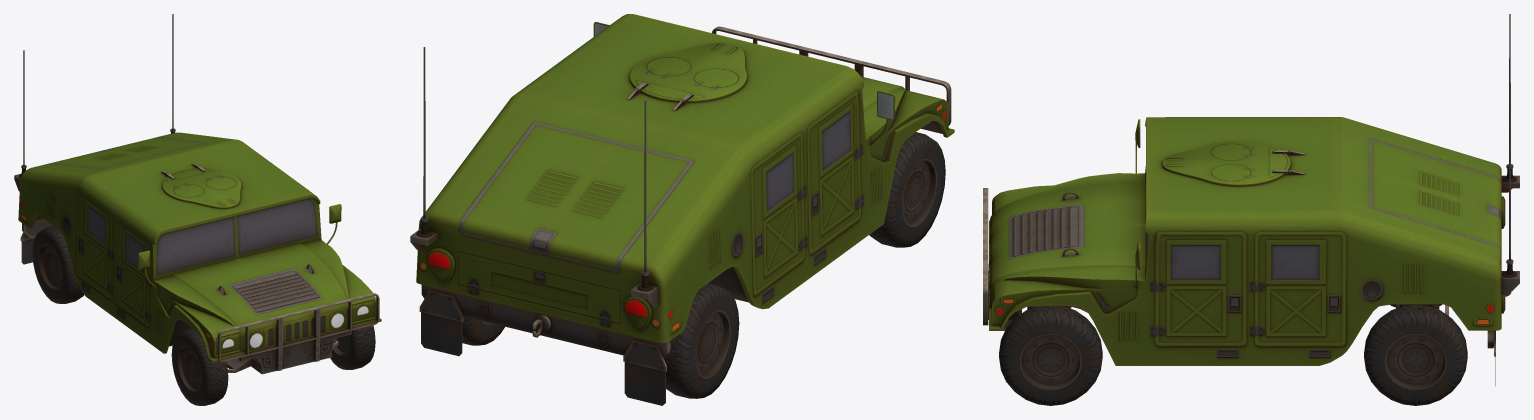
File: MilitaryHamvee01_1Drv.FBX
The picture shows the model from 3 angles, left to right: view 1: azimuth 30°, elevation 25°; view 2: azimuth 150°, elevation 25°; view 3: azimuth 270°, elevation 25°; orthographic projection. The views are drawn at different scales.
Parts seen in each view (by area): view 1: MilitaryHamvee01_1Body, WheelFrontRight, WheelRearRight, WheelFrontLeft; view 2: MilitaryHamvee01_1Body, WheelRearRight, WheelFrontRight, WheelRearLeft; view 3: MilitaryHamvee01_1Body, WheelRearLeft, WheelFrontLeft.
Boxes of the visible parts, x1,y1,x2,y2 form: MilitaryHamvee01_1Body: [14, 14, 381, 374]; WheelFrontRight: [171, 328, 228, 405]; WheelRearRight: [32, 226, 84, 303]; WheelFrontLeft: [330, 325, 375, 369]; MilitaryHamvee01_1Body: [410, 14, 954, 405]; WheelRearRight: [663, 283, 739, 398]; WheelFrontRight: [869, 132, 945, 247]; WheelRearLeft: [462, 316, 504, 345]; MilitaryHamvee01_1Body: [983, 14, 1519, 385]; WheelRearLeft: [1364, 304, 1467, 405]; WheelFrontLeft: [999, 305, 1102, 405].
Size of what is drawn, in the model's own units: 3.22 by 3.4 by 5.64.
